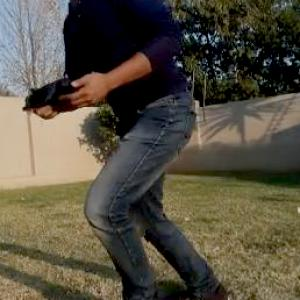follow: (17, 0, 234, 299)
